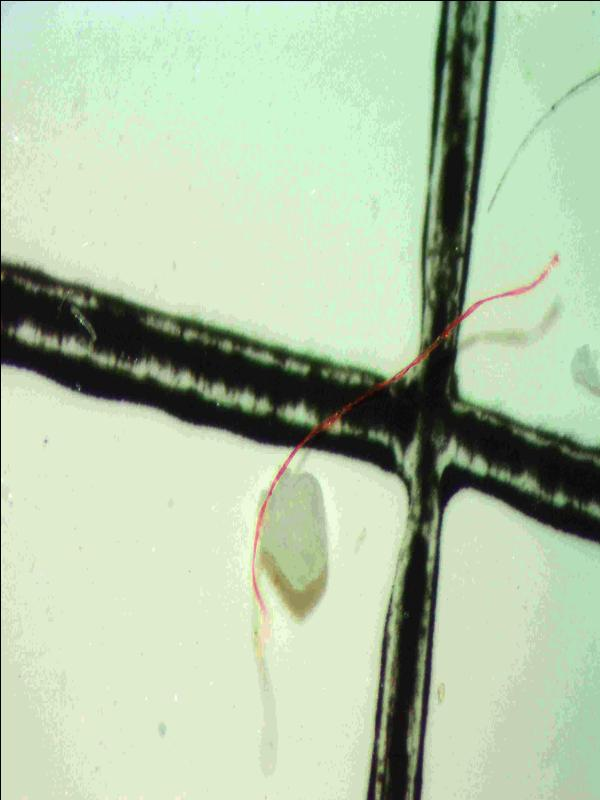microplastic: (2, 3, 599, 799)
